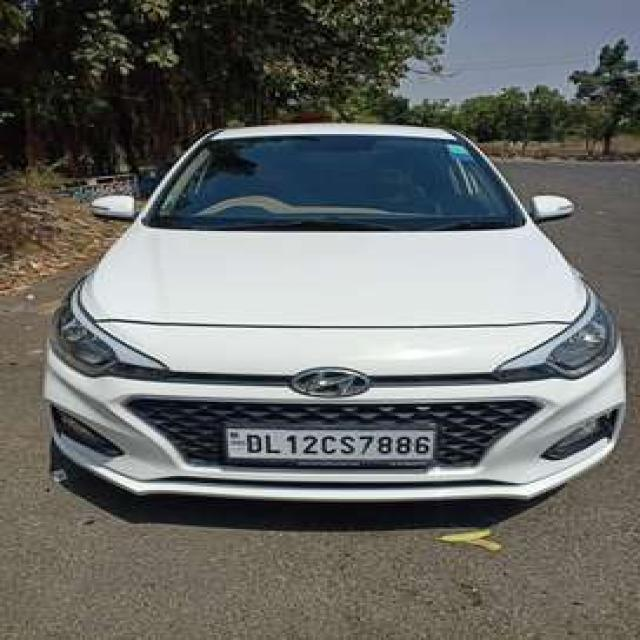licenseplate: (221, 424, 432, 459)
